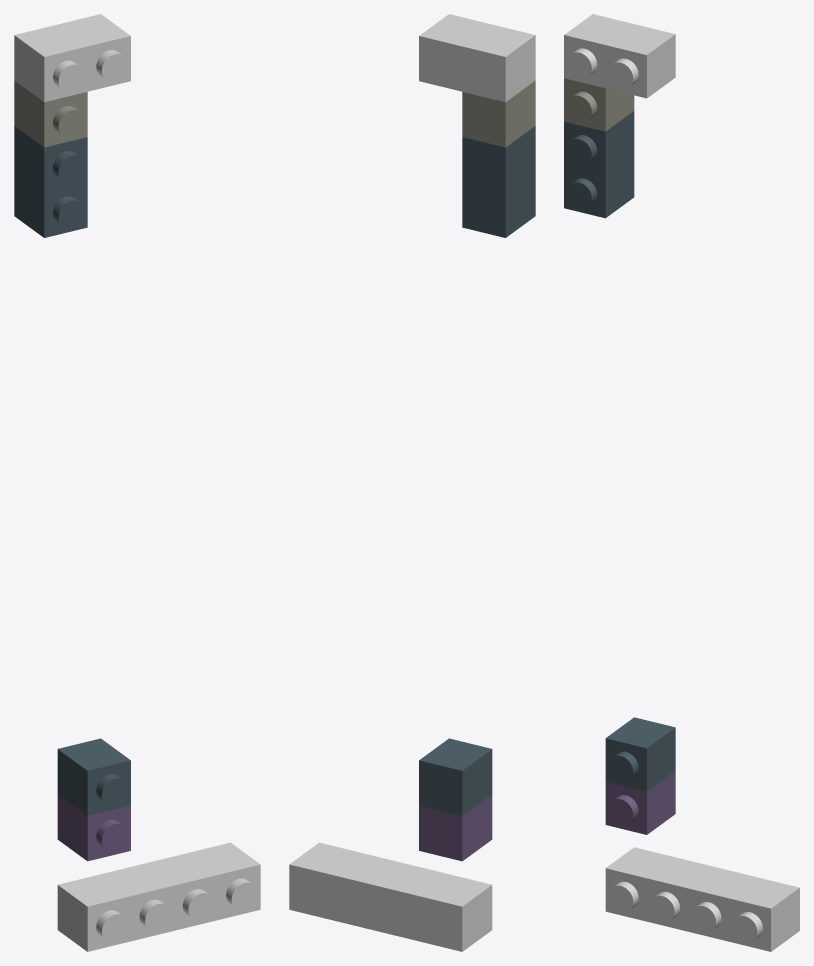
File: current.glb
3 views of the same model, side by side, from view 1: azimuth 30°, elevation 25°; view 2: azimuth 150°, elevation 25°; view 3: azimuth 330°, elevation 25° (orthographic). The views are drawn at different scales.
Parts seen in each view (by area): view 1: world; view 2: world; view 3: world.
Part boxes in pixels (box(x1,y1,x2,y2)): world: box(14, 14, 260, 951); world: box(289, 14, 535, 951); world: box(564, 14, 799, 951).
Size of the model in its own units: 40 by 160 by 11.4.
